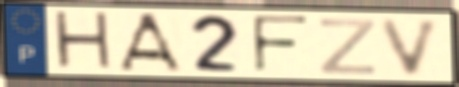2: (186, 13, 246, 75)
A: (115, 11, 186, 75)
F: (249, 14, 312, 76)
H: (51, 9, 117, 74)
V: (377, 17, 446, 78)
Z: (317, 17, 378, 76)
